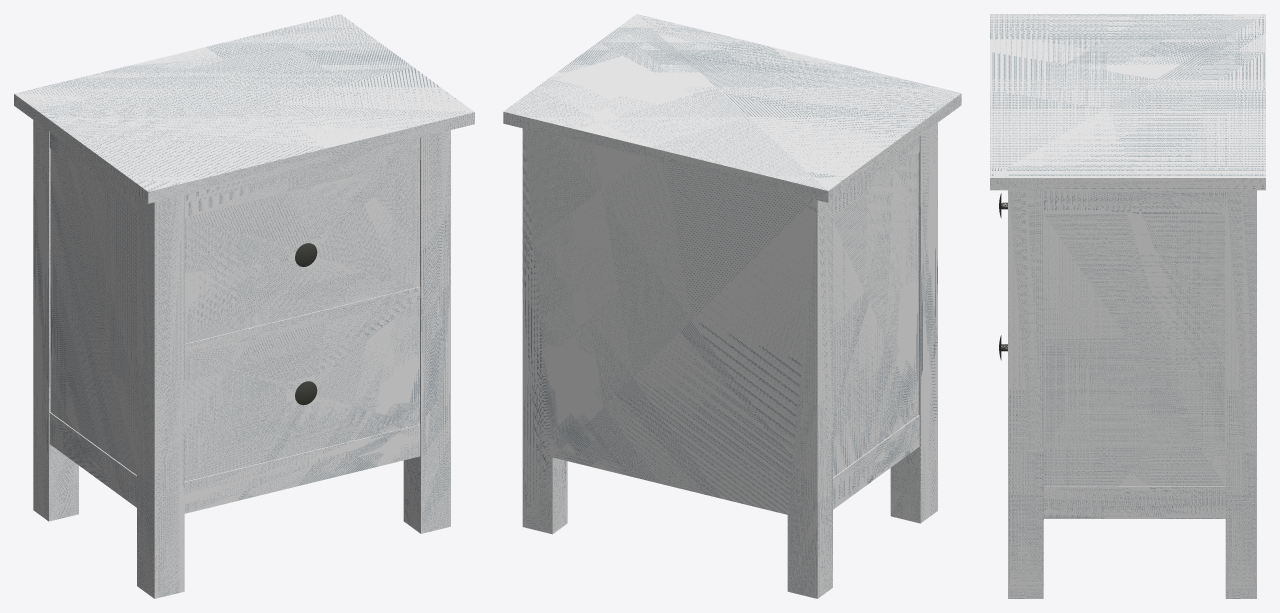
Rendered from nightstand.fbx.
The picture shows the model from 3 angles, left to right: view 1: azimuth 30°, elevation 25°; view 2: azimuth 150°, elevation 25°; view 3: azimuth 270°, elevation 25°; orthographic projection. The views are drawn at different scales.
Parts seen in each view (by area): view 1: HEMNES_2_drawer_side_table1; view 2: HEMNES_2_drawer_side_table1; view 3: HEMNES_2_drawer_side_table1.
Part boxes in pixels (left/top/right/bottom): HEMNES_2_drawer_side_table1: left=14, top=14, right=474, bottom=598; HEMNES_2_drawer_side_table1: left=503, top=14, right=961, bottom=598; HEMNES_2_drawer_side_table1: left=990, top=14, right=1265, bottom=598.
Size of the model in its own units: 0.5493 by 0.6699 by 0.3907.
